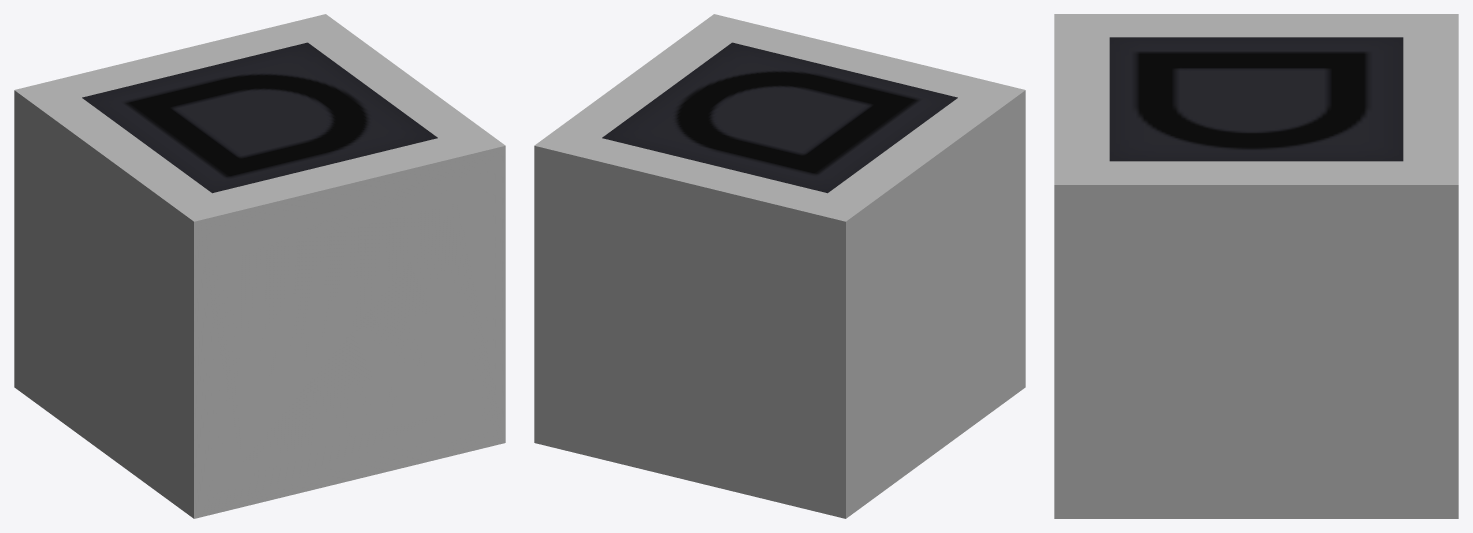
The model's file is obj_interactive_logicgate_lod1.fbx.
3 views of the same model, side by side, from view 1: azimuth 30°, elevation 25°; view 2: azimuth 150°, elevation 25°; view 3: azimuth 270°, elevation 25° (orthographic). The views are drawn at different scales.
Parts seen in each view (by area): view 1: obj_logicgate_lod1; view 2: obj_logicgate_lod1; view 3: obj_logicgate_lod1.
Boxes of the visible parts, x1,y1,x2,y2 form: obj_logicgate_lod1: (14,14,505,518); obj_logicgate_lod1: (534,14,1025,518); obj_logicgate_lod1: (1054,14,1458,518).
Size of the model in its own units: 1.1 by 1 by 1.1.
